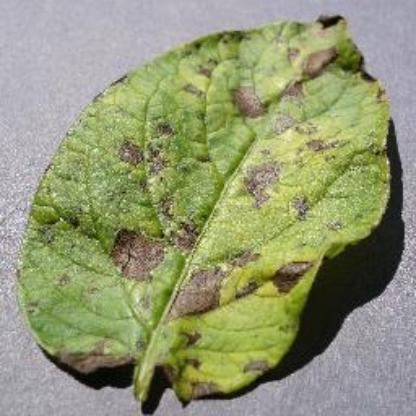Early-Blight: (21, 12, 399, 404)
